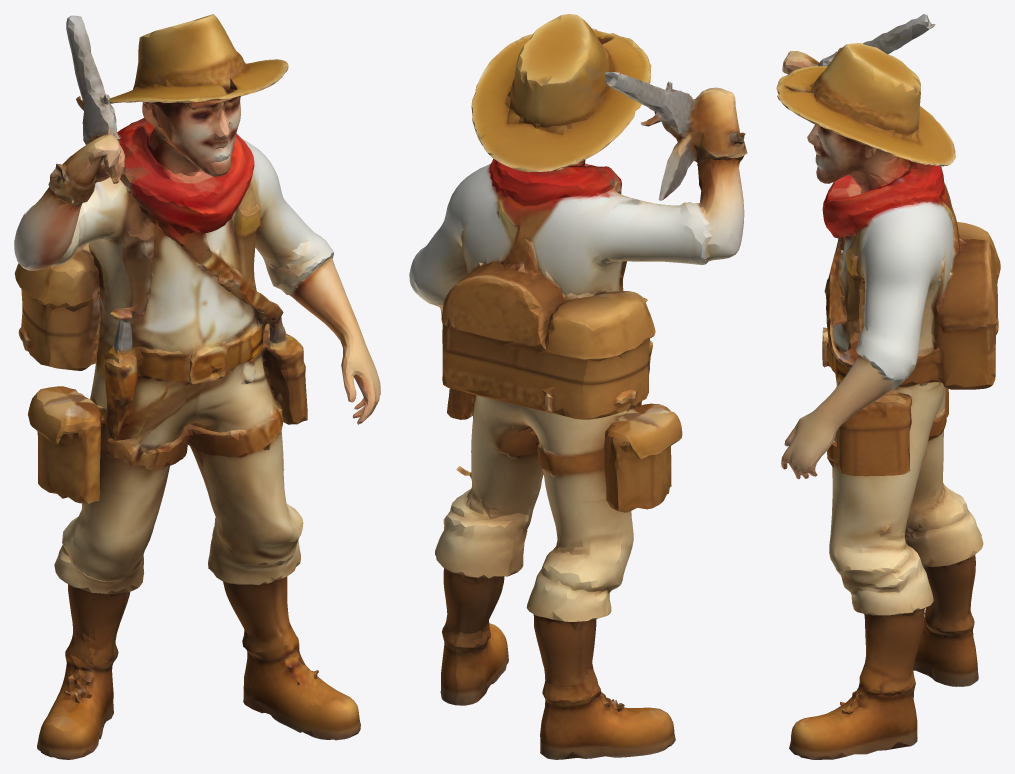
File: temple_runner_character_v001.glb
The picture shows the model from 3 angles, left to right: view 1: azimuth 30°, elevation 25°; view 2: azimuth 150°, elevation 25°; view 3: azimuth 270°, elevation 25°; orthographic projection. The views are drawn at different scales.
Parts seen in each view (by area): view 1: Temple_Runner_Character; view 2: Temple_Runner_Character; view 3: Temple_Runner_Character.
Boxes of the visible parts, box(x1,y1,x2,y2) form: Temple_Runner_Character: box(14, 14, 380, 759); Temple_Runner_Character: box(409, 14, 747, 759); Temple_Runner_Character: box(776, 14, 1000, 759).
Bounding box in the file's own units: 1.65 × 3.42 × 1.06.
1 material, 1 textured.
